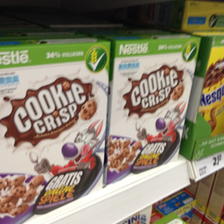cereal: (1, 36, 111, 222), (107, 29, 202, 185)
